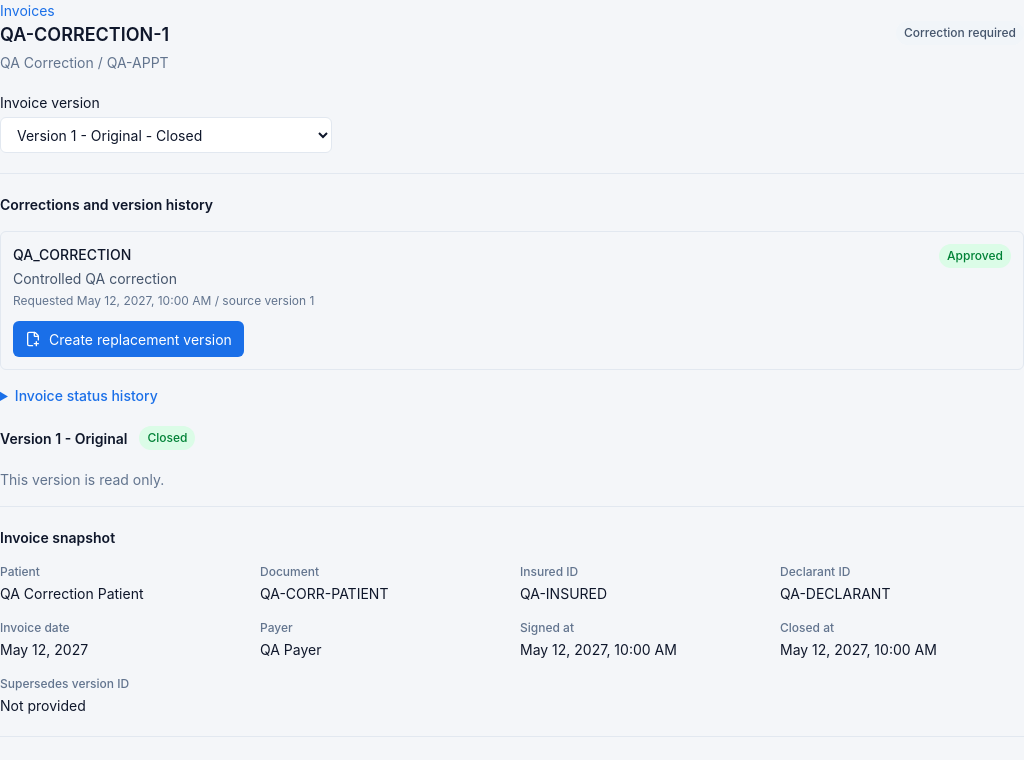
Test: F07 correction workflow UI › creates a replacement and keeps the original historical version
Click the button "Create replacement version": {"x": 128, "y": 339} x1=13 y1=321 x2=244 y2=357
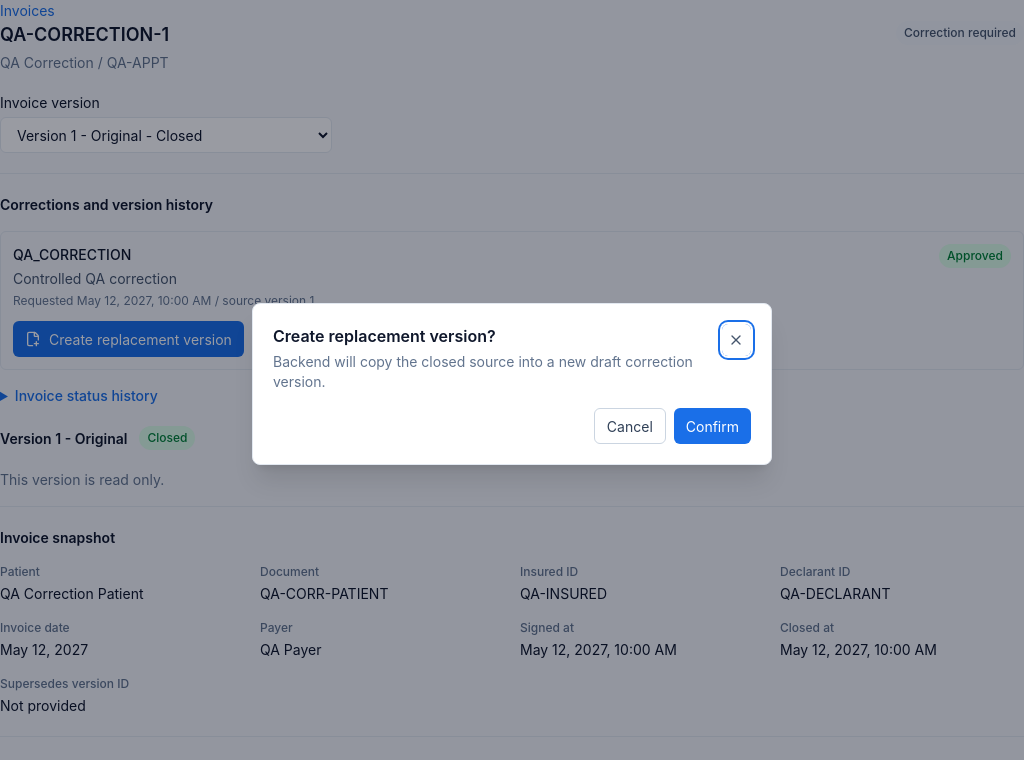
Click the button "Confirm": {"x": 712, "y": 426} x1=674 y1=408 x2=751 y2=444
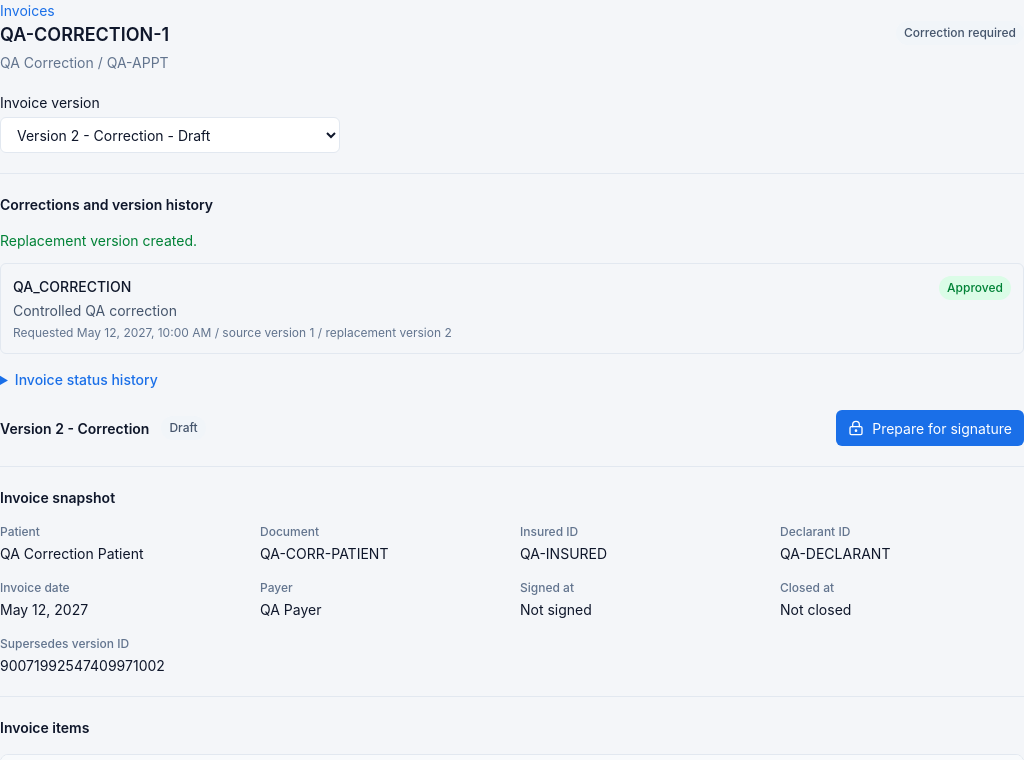
Result: the heading "Version 2 - Correction" is shown at x1=0 y1=418 x2=149 y2=438
Result: the text "90071992547409971002" is shown at x1=0 y1=657 x2=165 y2=674
